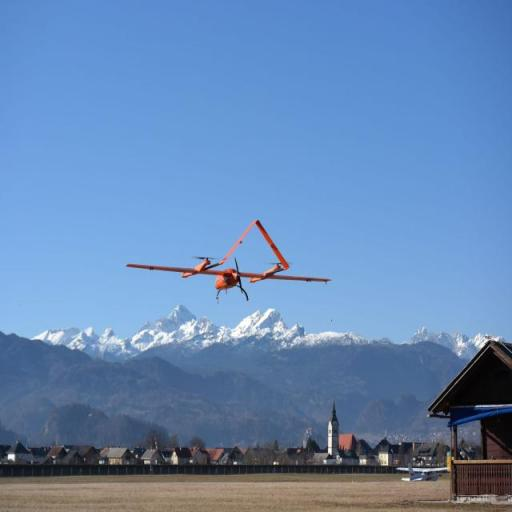uav: (125, 216, 330, 306)
